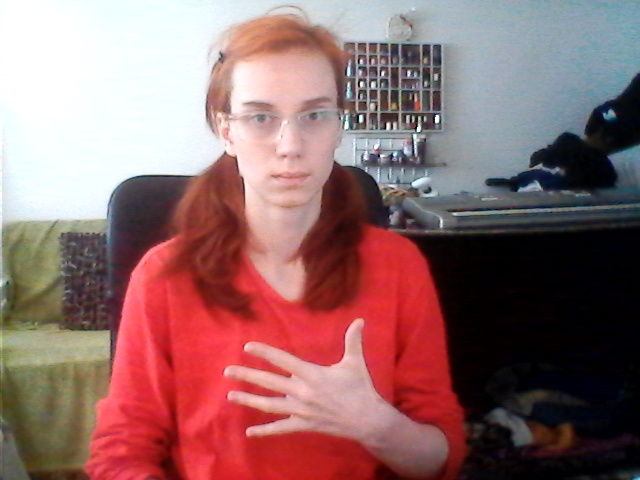pat: (225, 316, 379, 443)
